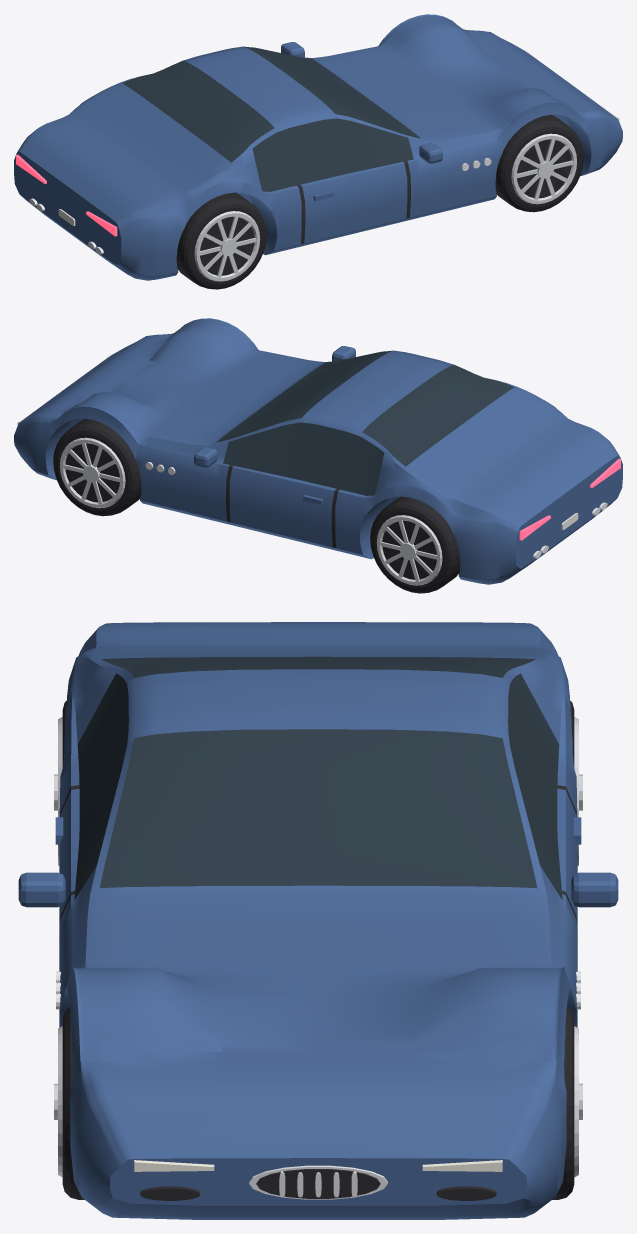
The model's file is mazeratti_gt.fbx.
3 views of the same model, one above another, from view 1: azimuth 30°, elevation 25°; view 2: azimuth 150°, elevation 25°; view 3: azimuth 270°, elevation 25° (orthographic). The views are drawn at different scales.
Parts seen in each view (by area): view 1: Body.015, Glass.015, Tire.015, Rim.015, Trim.015, TailLight.015; view 2: Body.015, Glass.015, Tire.015, Rim.015, Trim.015, TailLight.015; view 3: Body.015, Glass.015, Tire.015, Trim.015, Rim.015, Chrome.014, HeadLight.015.
Boxes of the visible parts, bbox=[...] form: Body.015: bbox=[14, 14, 622, 280]; Glass.015: bbox=[122, 46, 420, 191]; Tire.015: bbox=[176, 114, 583, 289]; Rim.015: bbox=[194, 133, 576, 281]; Trim.015: bbox=[200, 139, 570, 274]; TailLight.015: bbox=[16, 154, 117, 236]; Body.015: bbox=[14, 318, 622, 584]; Glass.015: bbox=[216, 350, 514, 495]; Tire.015: bbox=[53, 418, 460, 593]; Rim.015: bbox=[60, 437, 442, 585]; Trim.015: bbox=[65, 444, 434, 579]; TailLight.015: bbox=[519, 458, 620, 540]; Body.015: bbox=[18, 622, 618, 1219]; Glass.015: bbox=[74, 656, 562, 899]; Tire.015: bbox=[62, 700, 574, 1199]; Trim.015: bbox=[59, 785, 577, 1200]; Rim.015: bbox=[54, 717, 582, 1177]; Chrome.014: bbox=[56, 971, 580, 1199]; HeadLight.015: bbox=[134, 1160, 502, 1171].
Size of the model in its own units: 1497 by 392 by 764.
